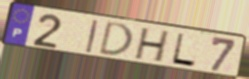2: (32, 12, 64, 51)
7: (210, 35, 238, 74)
D: (96, 20, 135, 58)
H: (132, 27, 172, 64)
I: (84, 19, 100, 55)
L: (169, 32, 198, 69)
